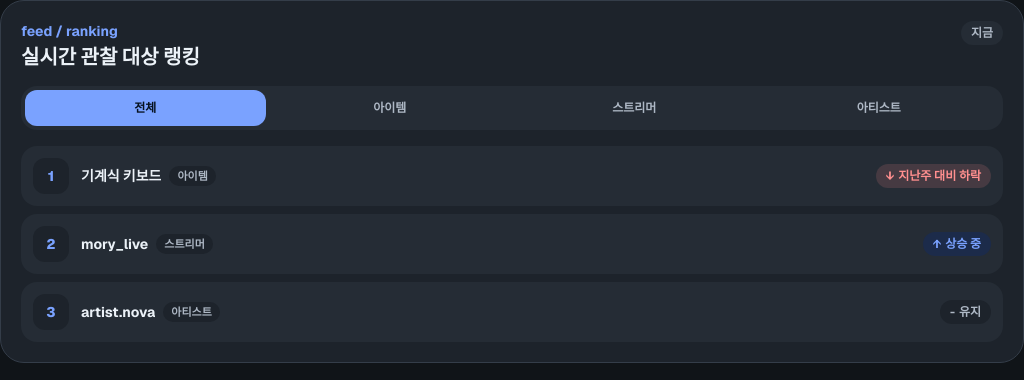
Scenario: PopularTargetSection › 스트리머 탭에서는 해당 종류의 대상만 보여준다
Note: 해당 종류 탭을 클릭한다
Step 1. Click the tab "스트리머" → (634, 108), box [514,90,754,126]
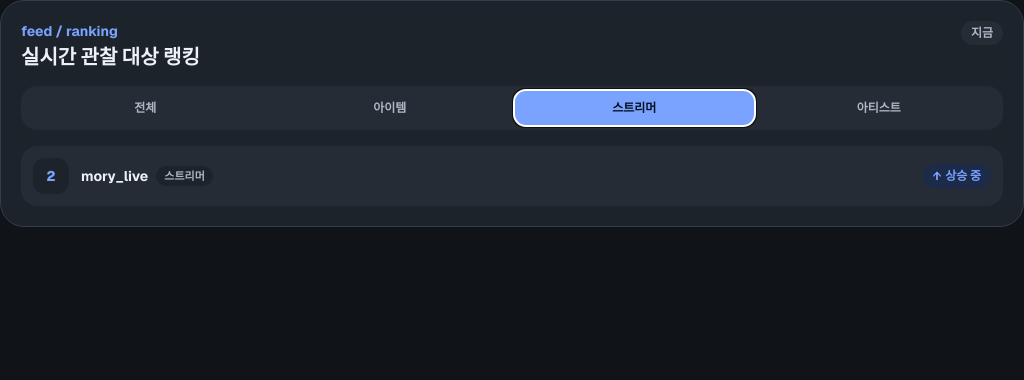
Check: the text "mory_live" is shown, box [81,166,148,186]
Check: the number of links is 1, box [21,146,1003,206]
